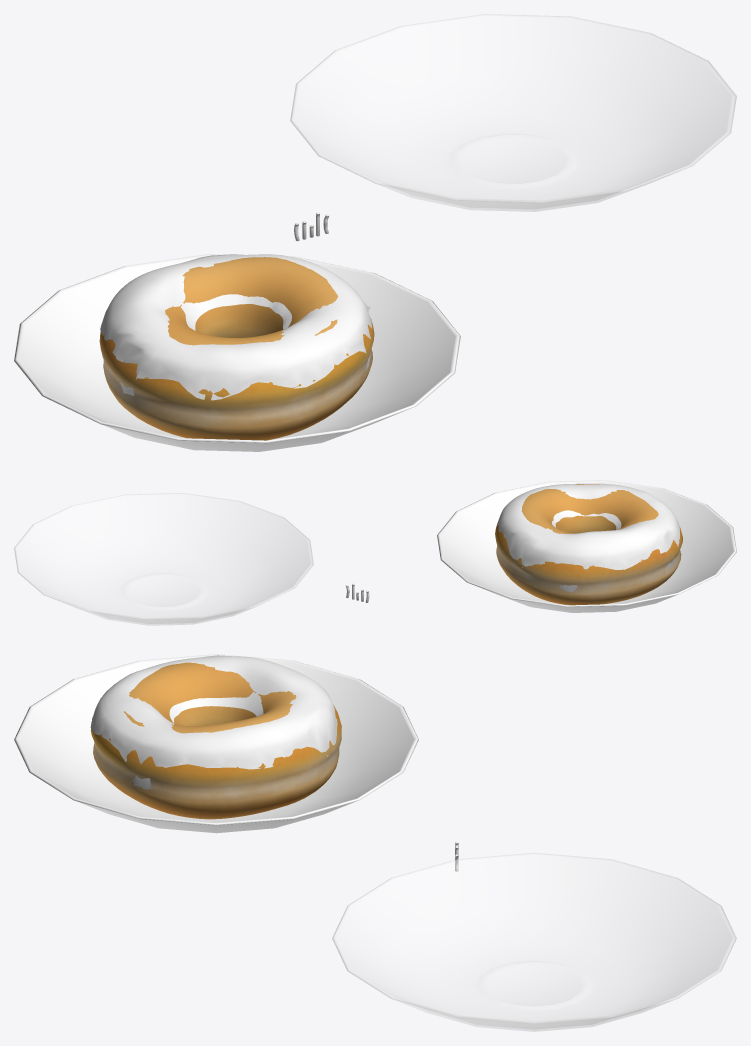
The model's file is dough.gltf.
The picture shows the model from 3 angles, top to bottom: view 1: azimuth 30°, elevation 25°; view 2: azimuth 150°, elevation 25°; view 3: azimuth 270°, elevation 25°; orthographic projection. The views are drawn at different scales.
Parts seen in each view (by area): view 1: Circle, Circle.001, Doughnut, Icing; view 2: Circle, Circle.001, Doughnut, Icing; view 3: Circle, Circle.001, Doughnut, Icing.
Part boxes in pixels (x1,y1,x2,y2): Circle: (290,14,736,211); Circle.001: (14,254,460,451); Doughnut: (99,257,374,440); Icing: (100,254,372,400); Circle: (14,493,313,625); Circle.001: (437,480,736,612); Doughnut: (495,484,682,605); Icing: (496,483,680,592); Circle: (332,853,736,1031); Circle.001: (14,654,418,833); Doughnut: (90,662,341,819); Icing: (90,655,337,789).
Size of what is drawn, in the model's own units: 4.77 by 0.5885 by 3.94.
Materials: 9 (1 with a texture image).
